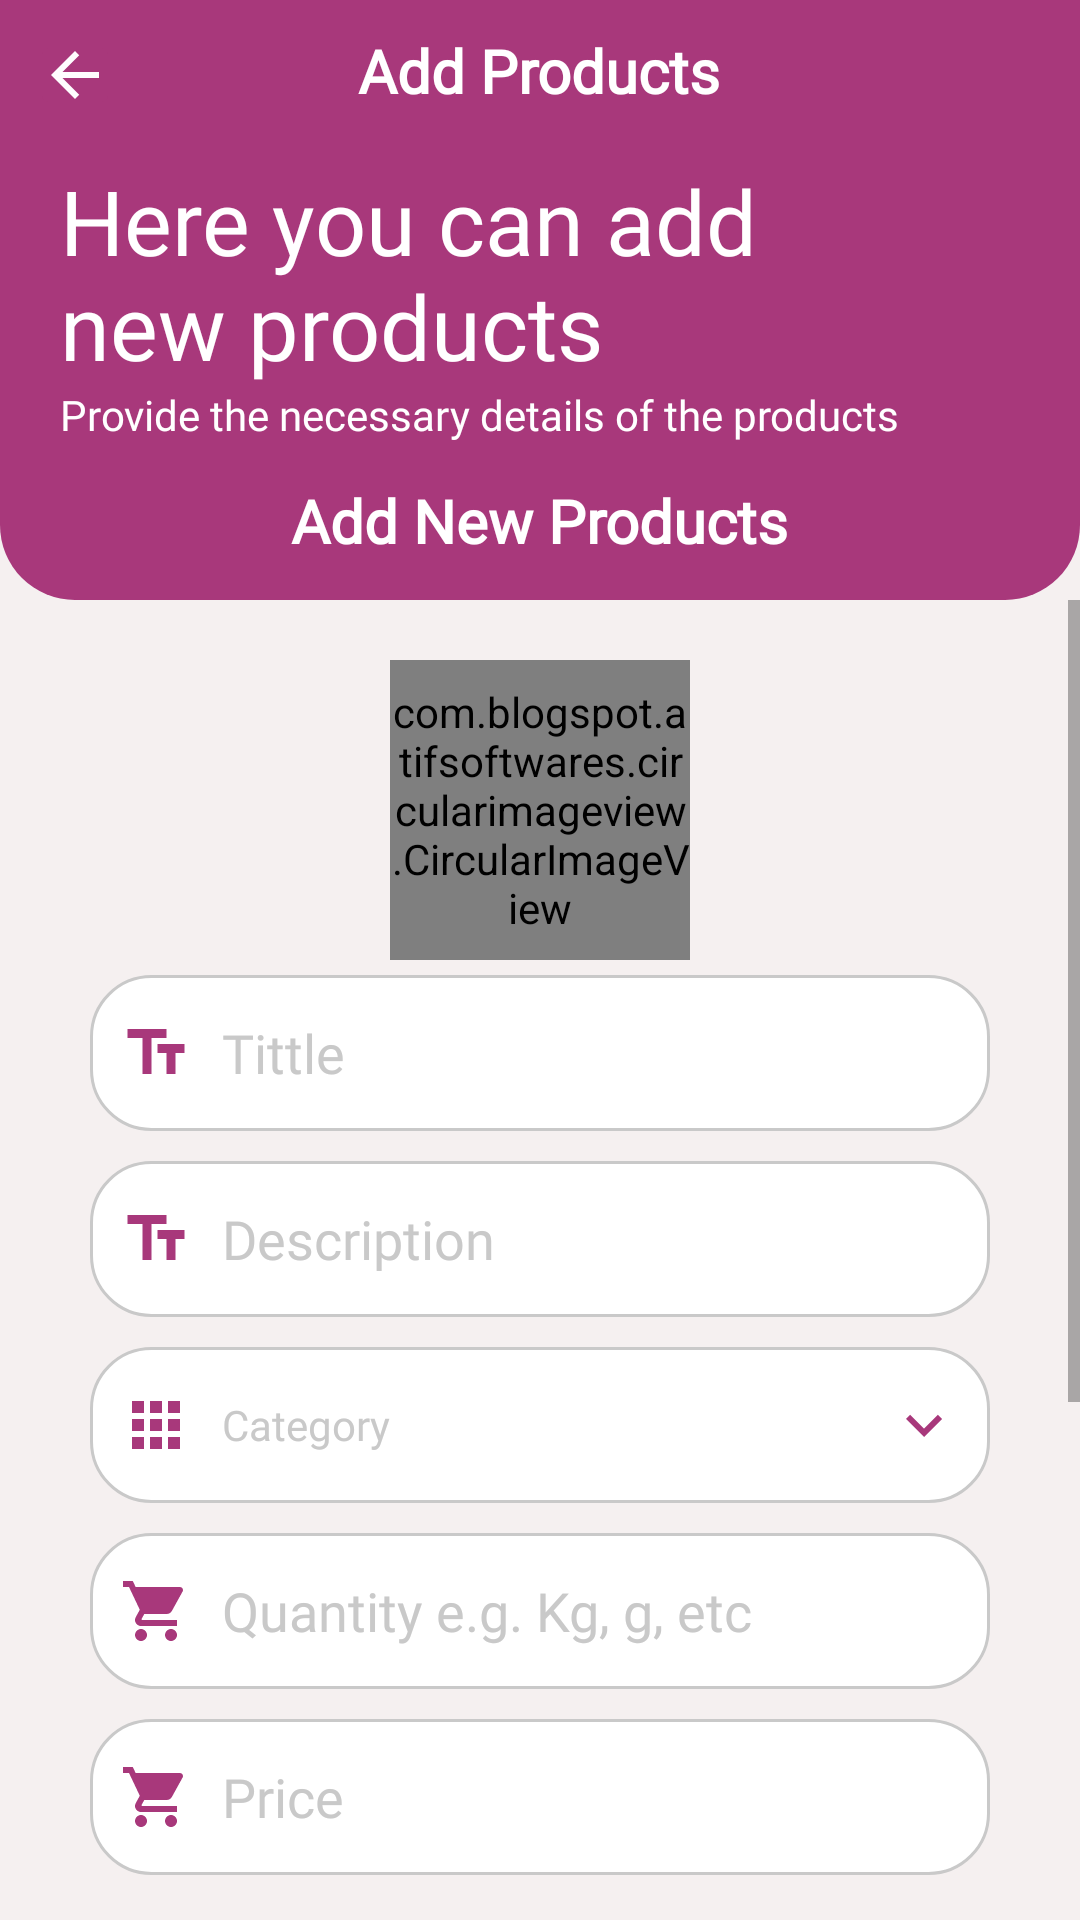

Icons on this 1080 x 1920 Android screen, each with its box as bbox=[x1, y1, x2, y2]:
back: bbox=[51, 51, 99, 99]
